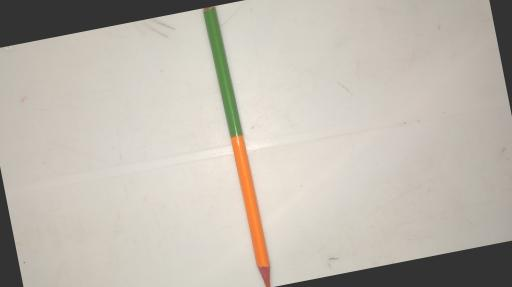Pencil: (200, 4, 275, 287)
